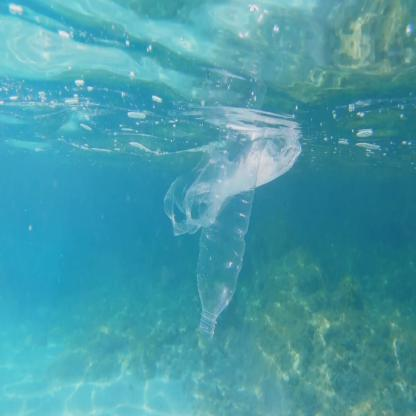Rác: (159, 104, 279, 348)
